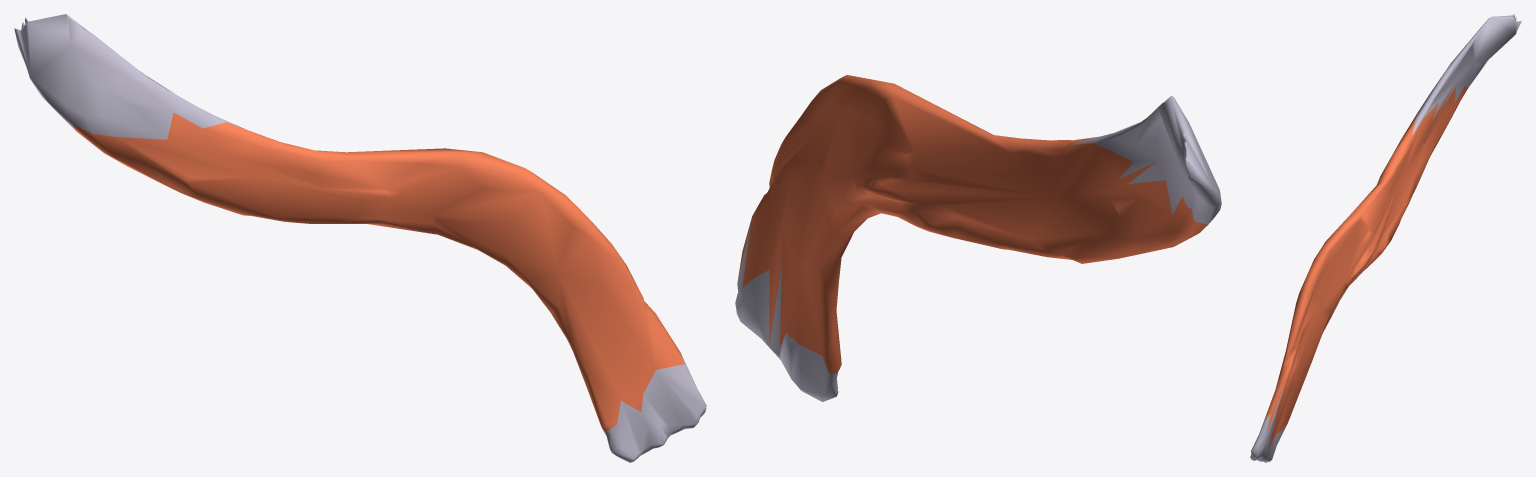
File: Zygomaticus_minor_muscle.r_Generated_Mesh_From_X3D.121.glb
3 renders of one model, left to right at view 1: azimuth 30°, elevation 25°; view 2: azimuth 150°, elevation 25°; view 3: azimuth 270°, elevation 25°, orthographic. The views are drawn at different scales.
Visible parts, largest first — view 1: Zygomaticus_minor_muscle.r_Generated_Mesh_From_X3D.121; view 2: Zygomaticus_minor_muscle.r_Generated_Mesh_From_X3D.121; view 3: Zygomaticus_minor_muscle.r_Generated_Mesh_From_X3D.121.
Boxes of the visible parts, x1,y1,x2,y2 form: Zygomaticus_minor_muscle.r_Generated_Mesh_From_X3D.121: (14,14,706,462); Zygomaticus_minor_muscle.r_Generated_Mesh_From_X3D.121: (735,75,1221,401); Zygomaticus_minor_muscle.r_Generated_Mesh_From_X3D.121: (1250,14,1521,462).
Size of the model in its own units: 0.0376 by 0.0306 by 0.0247.
